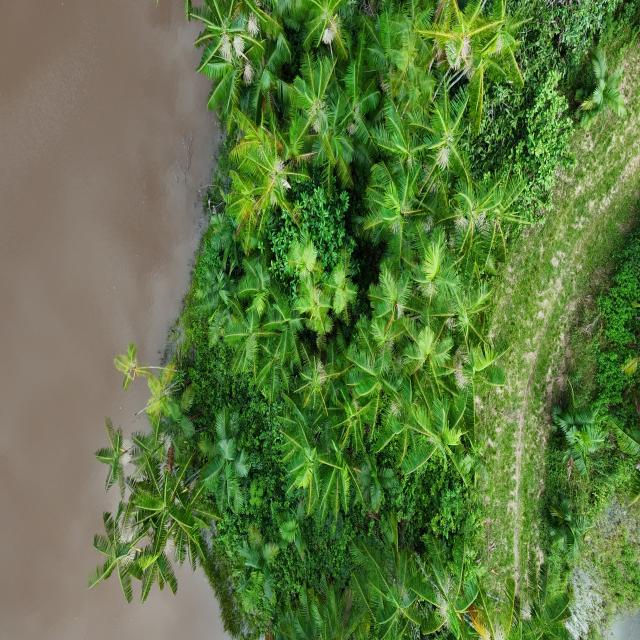vegetation: (87, 1, 637, 638)
